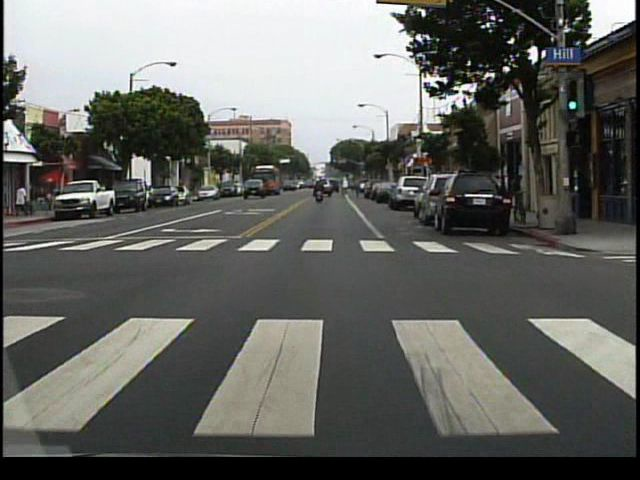person: (15, 183, 32, 220), (314, 180, 327, 207)
